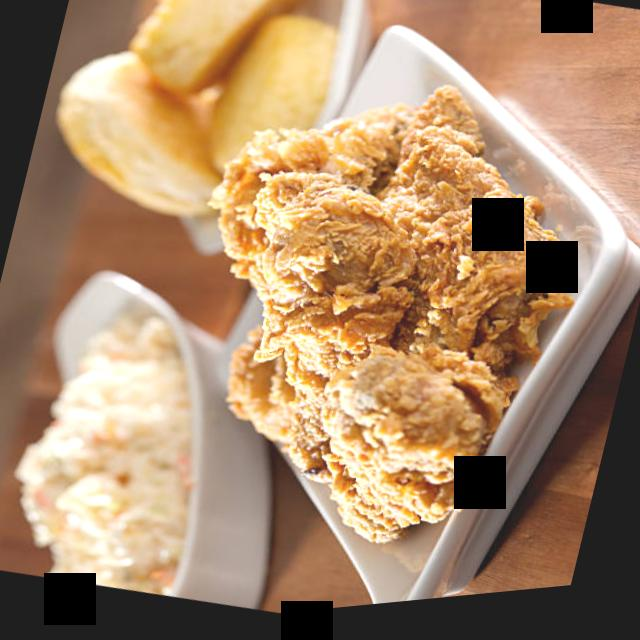Frango: (126, 26, 619, 610)
